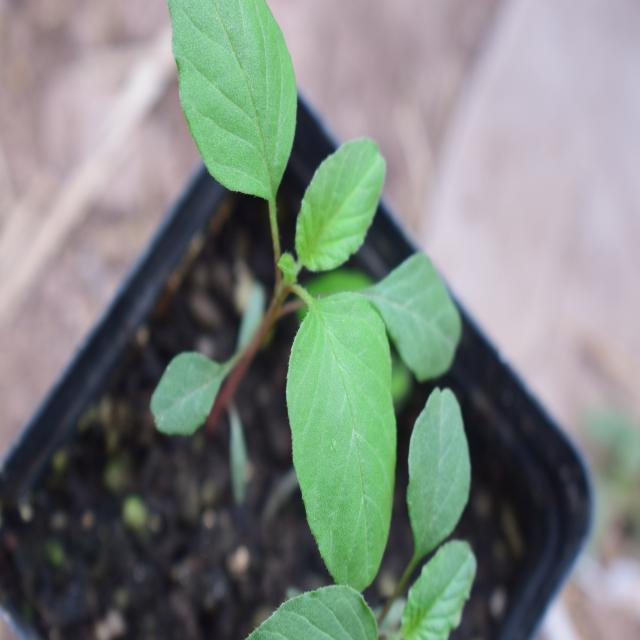pigweed: (156, 0, 487, 564)
